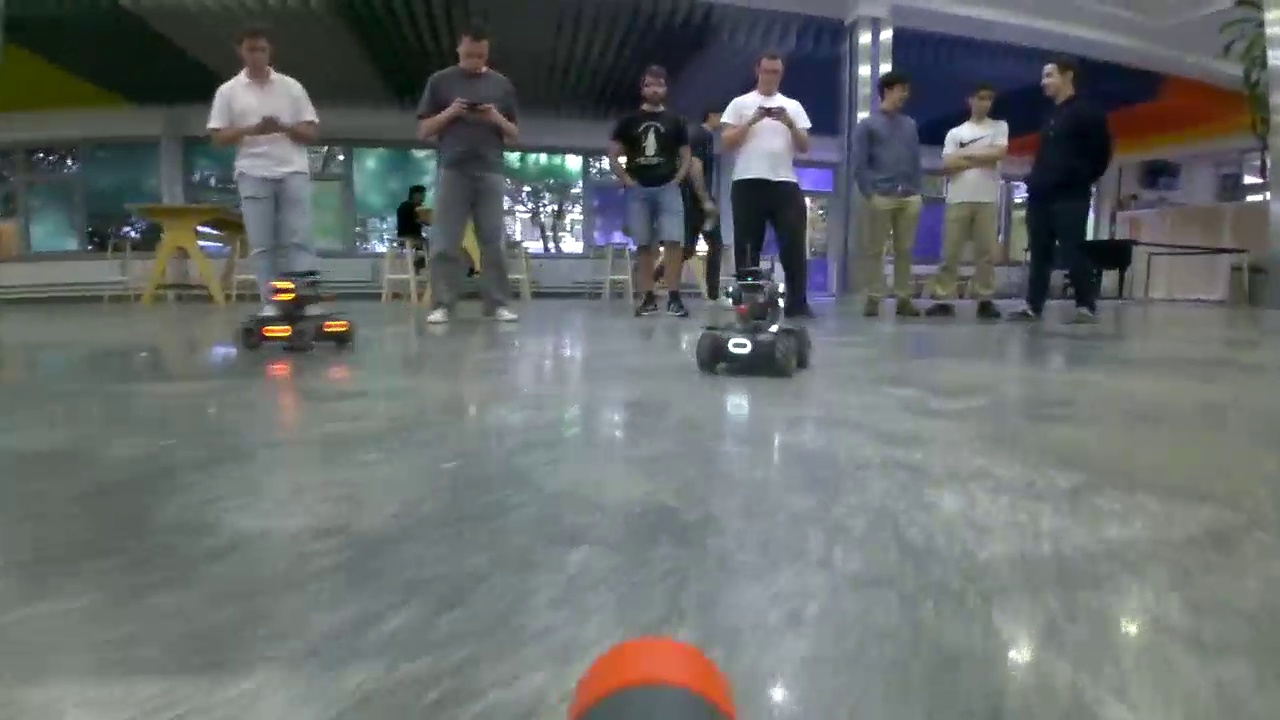robot: (697, 270, 813, 375), (243, 268, 354, 353)
